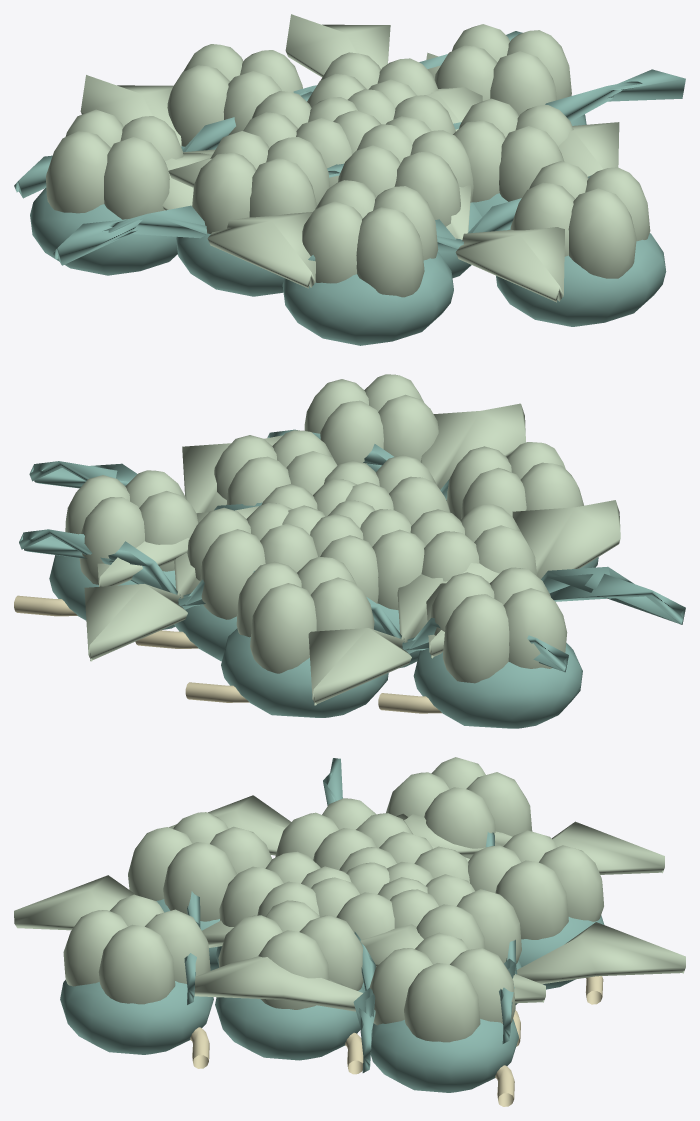
File: bio_oxygen_reef_10_far.glb
3 views of the same model, one above another, from view 1: azimuth 30°, elevation 25°; view 2: azimuth 150°, elevation 25°; view 3: azimuth 270°, elevation 25° (orthographic). The views are drawn at different scales.
Visible parts, largest first — view 1: Lobed gas sac.028, Lobed gas sac.036, Lobed gas sac.040, Lobed gas sac.016, Photosynthetic cushion.007, Lobed gas sac.032, Lobed gas sac.020, Lobed gas sac.024, Lobed gas sac.008, Photosynthetic cushion.010, Low buttress leaf.009, Low buttress leaf.017 (+13 smaller); view 2: Lobed gas sac.036, Lobed gas sac.024, Lobed gas sac.032, Lobed gas sac.040, Lobed gas sac.012, Photosynthetic cushion.009, Lobed gas sac.028, Low buttress leaf.005, Lobed gas sac.004, Lobed gas sac.016, Lobed gas sac.020, Low buttress leaf.013 (+17 smaller); view 3: Lobed gas sac.040, Lobed gas sac.032, Lobed gas sac.024, Lobed gas sac.028, Lobed gas sac.036, Lobed gas sac.020, Photosynthetic cushion.008, Photosynthetic cushion.010, Low buttress leaf.013, Lobed gas sac.012, Photosynthetic cushion.005, Low buttress leaf.001 (+15 smaller).
Part boxes in pixels (x1,y1,x2,y2): Lobed gas sac.028: (302, 180, 438, 297); Lobed gas sac.036: (46, 109, 183, 219); Lobed gas sac.040: (510, 161, 650, 278); Lobed gas sac.016: (192, 131, 329, 233); Photosynthetic cushion.007: (282, 252, 453, 345); Lobed gas sac.032: (434, 24, 571, 115); Lobed gas sac.020: (453, 98, 573, 202); Lobed gas sac.024: (167, 44, 302, 146); Lobed gas sac.008: (338, 124, 473, 226); Photosynthetic cushion.010: (496, 233, 666, 326); Low buttress leaf.009: (446, 184, 564, 302); Low buttress leaf.017: (162, 153, 315, 288); Lobed gas sac.036: (430, 567, 567, 683); Lobed gas sac.024: (236, 557, 374, 673); Lobed gas sac.032: (65, 470, 198, 584); Lobed gas sac.040: (304, 374, 438, 464); Lobed gas sac.012: (187, 503, 317, 619); Photosynthetic cushion.009: (413, 643, 582, 728); Lobed gas sac.028: (447, 442, 583, 520); Low buttress leaf.005: (308, 563, 499, 705); Lobed gas sac.004: (310, 509, 425, 610); Lobed gas sac.016: (410, 504, 537, 581); Lobed gas sac.020: (214, 430, 337, 505); Low buttress leaf.013: (84, 506, 258, 661); Lobed gas sac.040: (63, 894, 210, 1004); Lobed gas sac.032: (369, 932, 515, 1042); Lobed gas sac.024: (468, 830, 603, 939); Lobed gas sac.028: (128, 812, 271, 921); Lobed gas sac.036: (386, 757, 532, 858); Lobed gas sac.020: (218, 900, 363, 1009); Photosynthetic cushion.008: (370, 1018, 518, 1092); Photosynthetic cushion.010: (60, 980, 213, 1054); Low buttress leaf.013: (360, 922, 685, 984); Lobed gas sac.012: (390, 874, 521, 963); Photosynthetic cushion.005: (215, 986, 364, 1060); Low buttress leaf.001: (194, 956, 545, 1011).
Bounding box in the file's own units: 2.22 × 0.4497 × 2.09.
